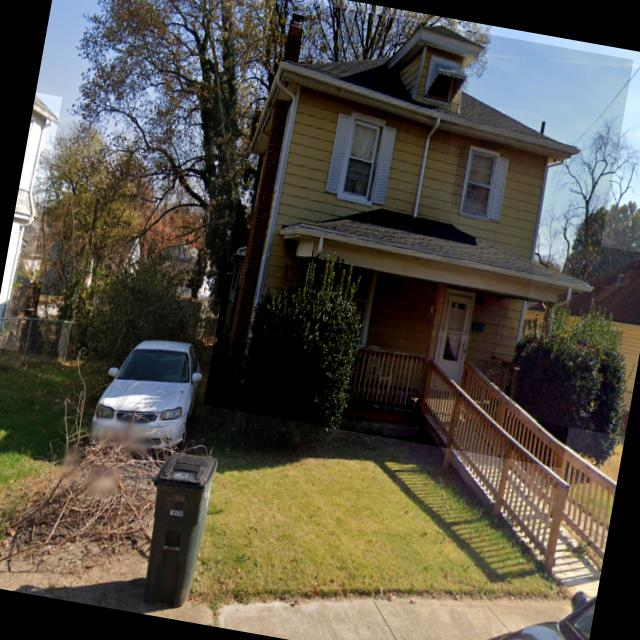House: (202, 0, 633, 468), (507, 234, 640, 436), (0, 92, 61, 351)
